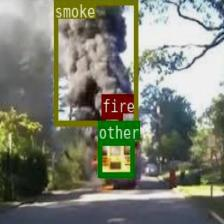fire: (101, 112, 122, 136)
smoke: (53, 0, 137, 124)
